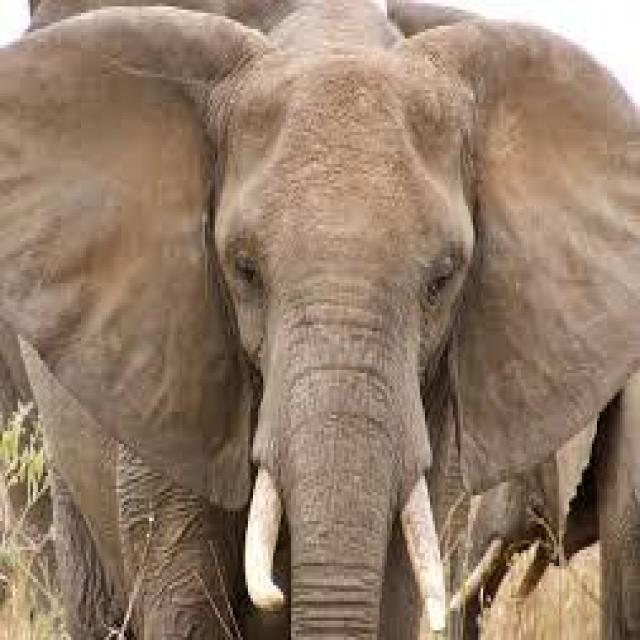Elephant: (2, 0, 638, 637)
